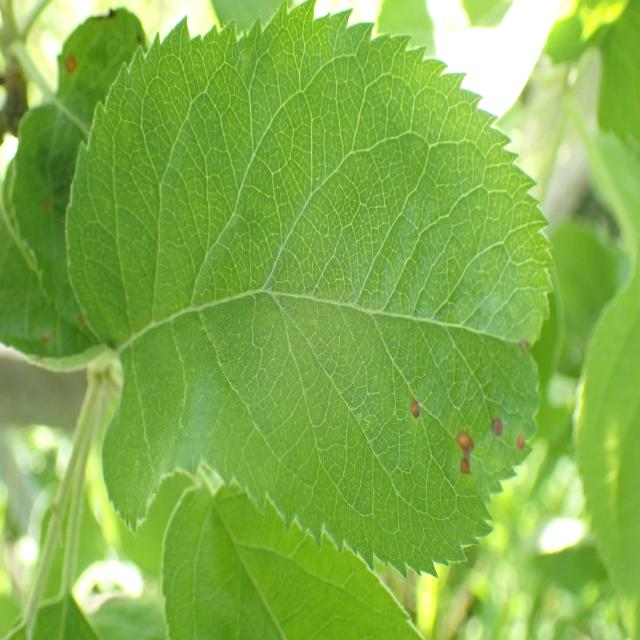Black Rot: (454, 412, 484, 492), (60, 41, 93, 107), (402, 390, 432, 450), (486, 384, 508, 452), (508, 415, 527, 476)
